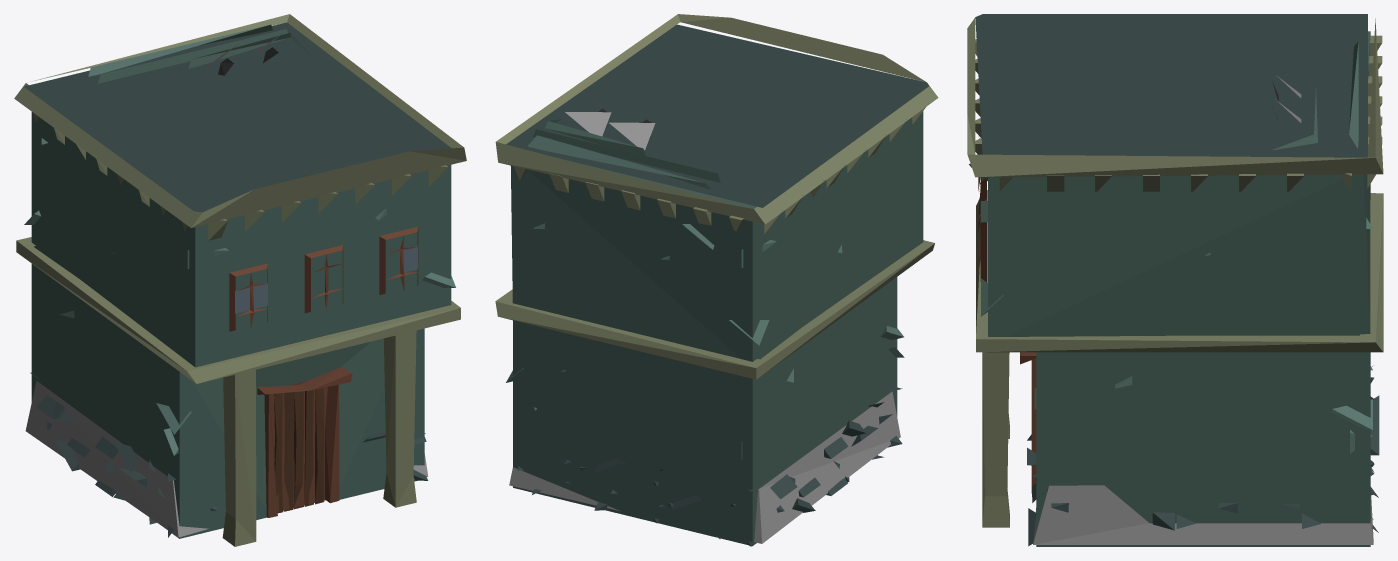
The model's file is 2Story_Columns_lod.glb.
3 views of the same model, side by side, from view 1: azimuth 30°, elevation 25°; view 2: azimuth 150°, elevation 25°; view 3: azimuth 270°, elevation 25° (orthographic). The views are drawn at different scales.
Visible parts, largest first — view 1: 2Story_Columns_Mat; view 2: 2Story_Columns_Mat; view 3: 2Story_Columns_Mat.
Part boxes in pixels (bbox=[...]): 2Story_Columns_Mat: bbox=[14, 14, 466, 546]; 2Story_Columns_Mat: bbox=[495, 14, 938, 546]; 2Story_Columns_Mat: bbox=[967, 14, 1383, 546].
Bounding box in the file's own units: 2.16 × 2.75 × 2.49.
